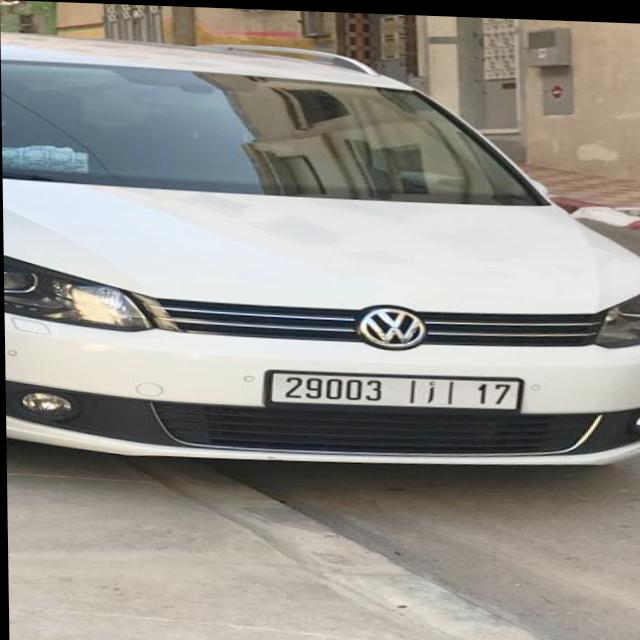License-Plate: (269, 371, 522, 406)
